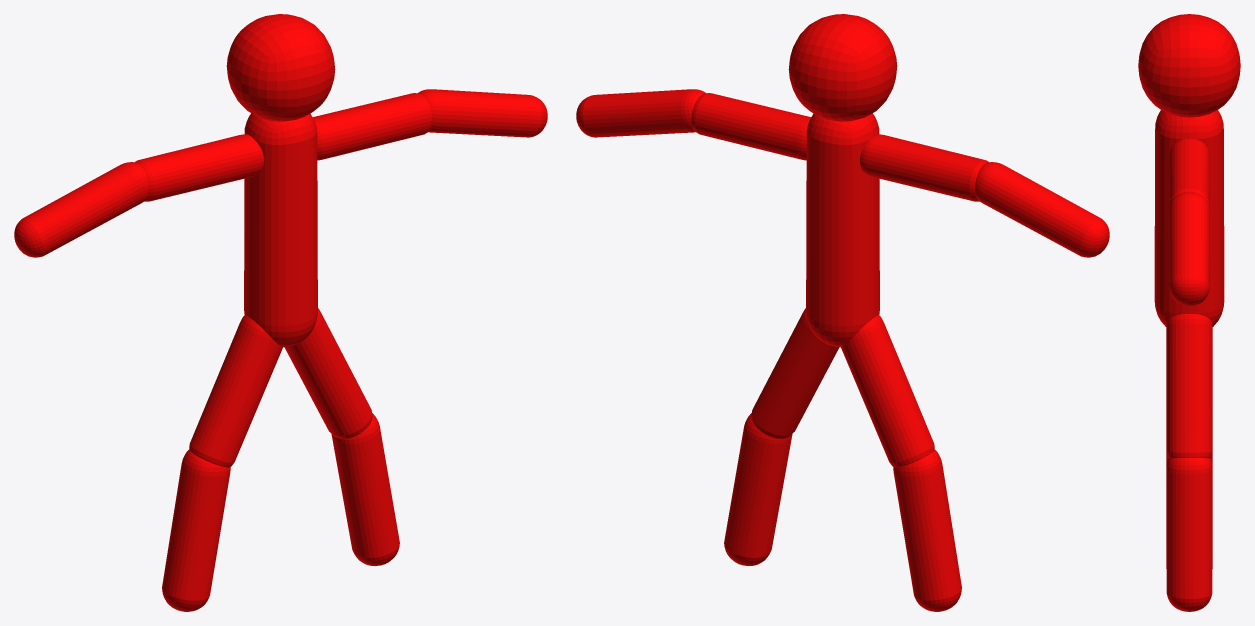
Rendered from LowPolyCharModel 4.fbx.
The picture shows the model from 3 angles, left to right: view 1: azimuth 30°, elevation 25°; view 2: azimuth 150°, elevation 25°; view 3: azimuth 270°, elevation 25°; orthographic projection. The views are drawn at different scales.
Parts seen in each view (by area): view 1: Chest, Head, ArmL.002, LegL, ArmR.002, ArmL.001, LegR, ArmL, ArmR, ArmR.001, Chest.001; view 2: Chest, Head, ArmL.002, LegL, ArmR.002, ArmL.001, LegR, ArmL, ArmR, ArmR.001, Chest.001; view 3: Head, Chest, ArmR.002, LegR, ArmR.001, ArmR, Chest.001.
Part boxes in pixels (box(x1,y1,x2,y2)): Chest: box(244, 113, 317, 347); Head: box(226, 14, 335, 121); ArmL.002: box(162, 449, 230, 611); LegL: box(189, 315, 282, 467); ArmR.002: box(331, 413, 399, 565); ArmL.001: box(14, 162, 148, 257); LegR: box(284, 308, 372, 438); ArmL: box(135, 134, 263, 201); ArmR: box(313, 93, 432, 160); ArmR.001: box(418, 89, 547, 137); Chest.001: box(244, 114, 317, 346); Chest: box(806, 113, 879, 347); Head: box(788, 14, 897, 121); ArmL.002: box(893, 449, 961, 611); LegL: box(841, 315, 934, 467); ArmR.002: box(724, 413, 792, 565); ArmL.001: box(975, 162, 1109, 257); LegR: box(751, 308, 839, 438); ArmL: box(860, 134, 988, 201); ArmR: box(691, 93, 810, 160); ArmR.001: box(576, 89, 705, 137); Chest.001: box(806, 115, 879, 346); Head: box(1138, 14, 1240, 117); Chest: box(1154, 110, 1224, 326); ArmR.002: box(1166, 458, 1212, 611); LegR: box(1166, 314, 1212, 458); ArmR.001: box(1169, 191, 1209, 305); ArmR: box(1169, 138, 1209, 206); Chest.001: box(1154, 110, 1224, 325).
Bounding box in the file's own units: 9.61 × 9.87 × 1.68.
